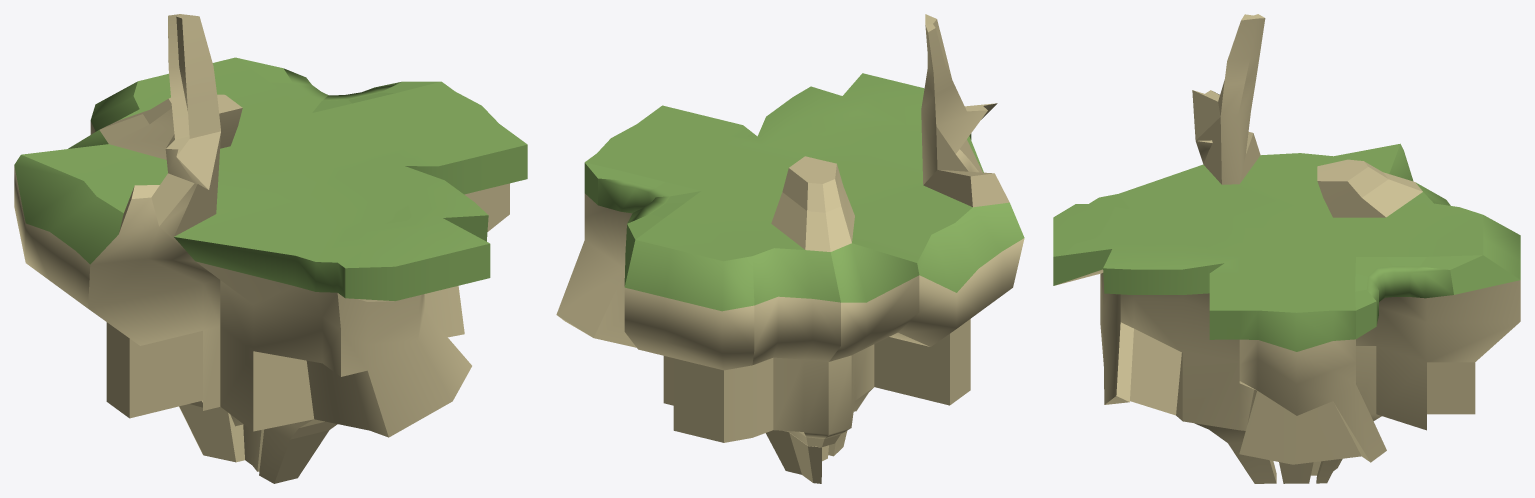
File: Floating_Island_1.fbx
The picture shows the model from 3 angles, left to right: view 1: azimuth 30°, elevation 25°; view 2: azimuth 150°, elevation 25°; view 3: azimuth 270°, elevation 25°; orthographic projection. The views are drawn at different scales.
Visible parts, largest first — view 1: pCube1; view 2: pCube1; view 3: pCube1.
Part boxes in pixels (<box>): pCube1: <box>14,14,527,483</box>; pCube1: <box>556,14,1024,483</box>; pCube1: <box>1053,14,1520,483</box>.
Bounding box in the file's own units: 48.38 × 50.9 × 51.38.
